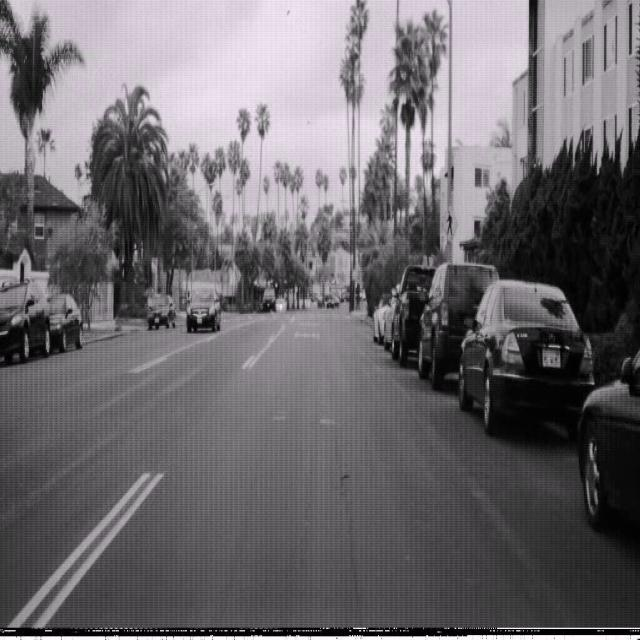pedestrianCrossing: (441, 202, 458, 244)
